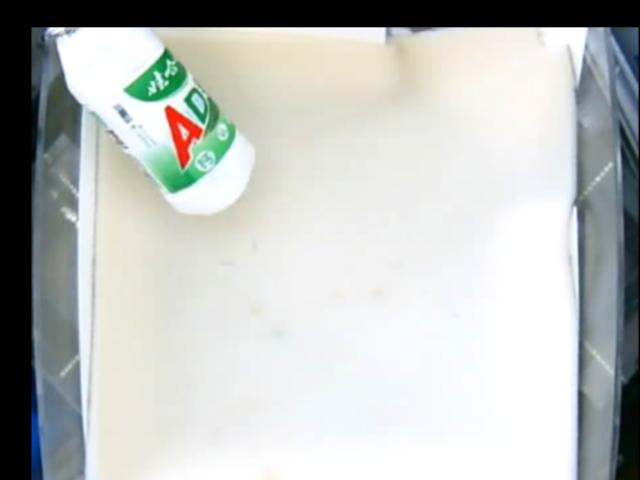Bottle: (47, 28, 258, 218)
